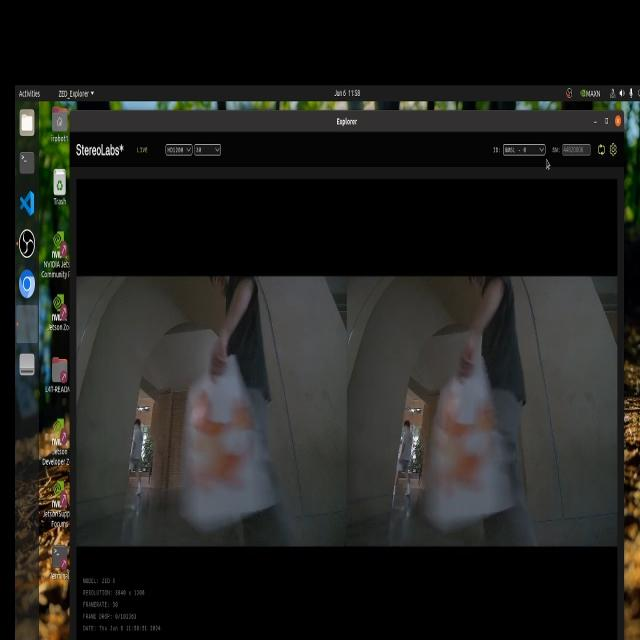red: (176, 373, 264, 504), (422, 384, 492, 487)
